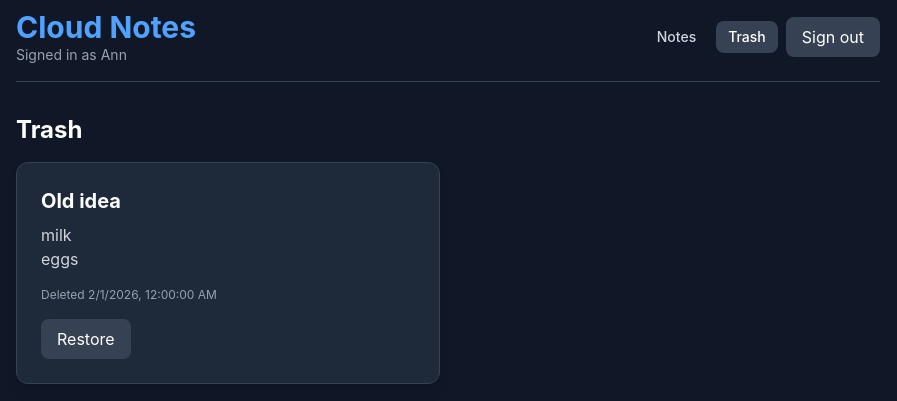
Test: TrashPage › restores a note
Expected: the heading "Old idea" is shown, [41,189,121,213]
Step 1. Click the button "Restore" → (86, 339), box [41,319,131,359]
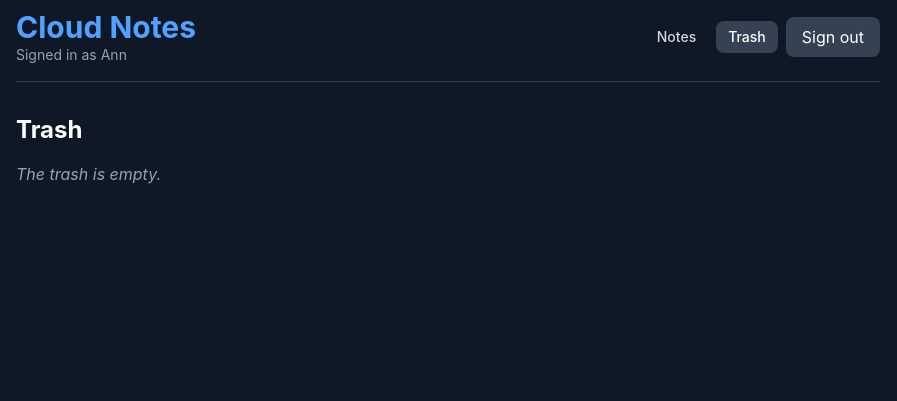
Now the text "The trash is empty." is shown, box [16,164,161,184]
